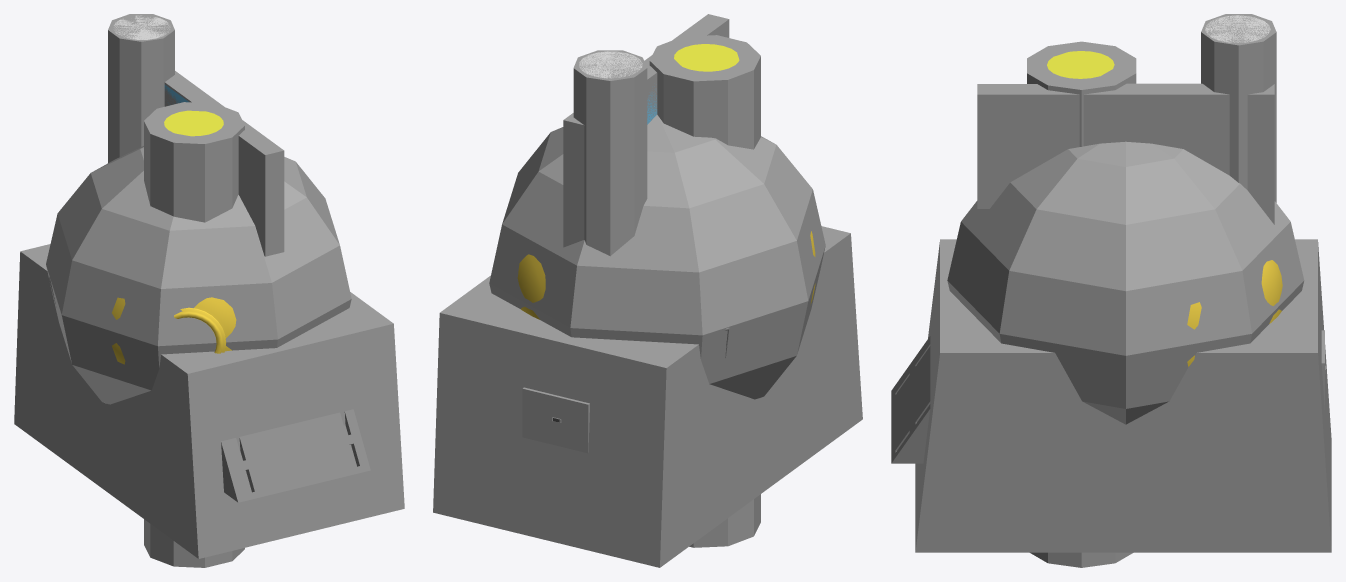
File: Machine_12.fbx
3 views of the same model, side by side, from view 1: azimuth 30°, elevation 25°; view 2: azimuth 150°, elevation 25°; view 3: azimuth 270°, elevation 25° (orthographic). The views are drawn at different scales.
Visible parts, largest first — view 1: colider_Soba1, col__Power, colider_pipe2, Base2, colidersoba2, Mother1Colider, power, pipe, Mother1Col_der; view 2: colider_Soba1, col__Power, colidersoba2, colider_pipe2, Base2, Mother1Col_der, pipe, power, Mother1Colider; view 3: colider_Soba1, col__Power, Mother1Col_der, Mother1Colider, colidersoba2, Base2, colider_pipe2, pipe, power.
Boxes of the visible parts, <box> form: colider_Soba1: <box>14,244,404,558</box>; col__Power: <box>46,146,351,404</box>; colider_pipe2: <box>144,102,244,567</box>; Base2: <box>114,15,370,502</box>; colidersoba2: <box>108,14,174,162</box>; Mother1Colider: <box>238,120,284,256</box>; power: <box>49,277,236,364</box>; pipe: <box>164,110,223,136</box>; Mother1Col_der: <box>164,71,224,106</box>; colider_Soba1: <box>433,226,862,567</box>; col__Power: <box>489,114,825,399</box>; colidersoba2: <box>573,50,647,256</box>; colider_pipe2: <box>649,35,760,547</box>; Base2: <box>522,51,642,453</box>; Mother1Col_der: <box>563,56,657,247</box>; pipe: <box>674,44,739,71</box>; power: <box>517,231,815,357</box>; Mother1Colider: <box>650,14,729,56</box>; colider_Soba1: <box>915,239,1331,552</box>; col__Power: <box>947,141,1304,424</box>; Mother1Col_der: <box>1096,83,1274,224</box>; Mother1Colider: <box>977,84,1096,208</box>; colidersoba2: <box>1201,14,1276,202</box>; Base2: <box>891,15,1325,463</box>; colider_pipe2: <box>1027,41,1136,567</box>; pipe: <box>1047,51,1114,78</box>; power: <box>1187,260,1282,366</box>.
Size of the model in its own units: 5.16 by 8.37 by 6.36.
